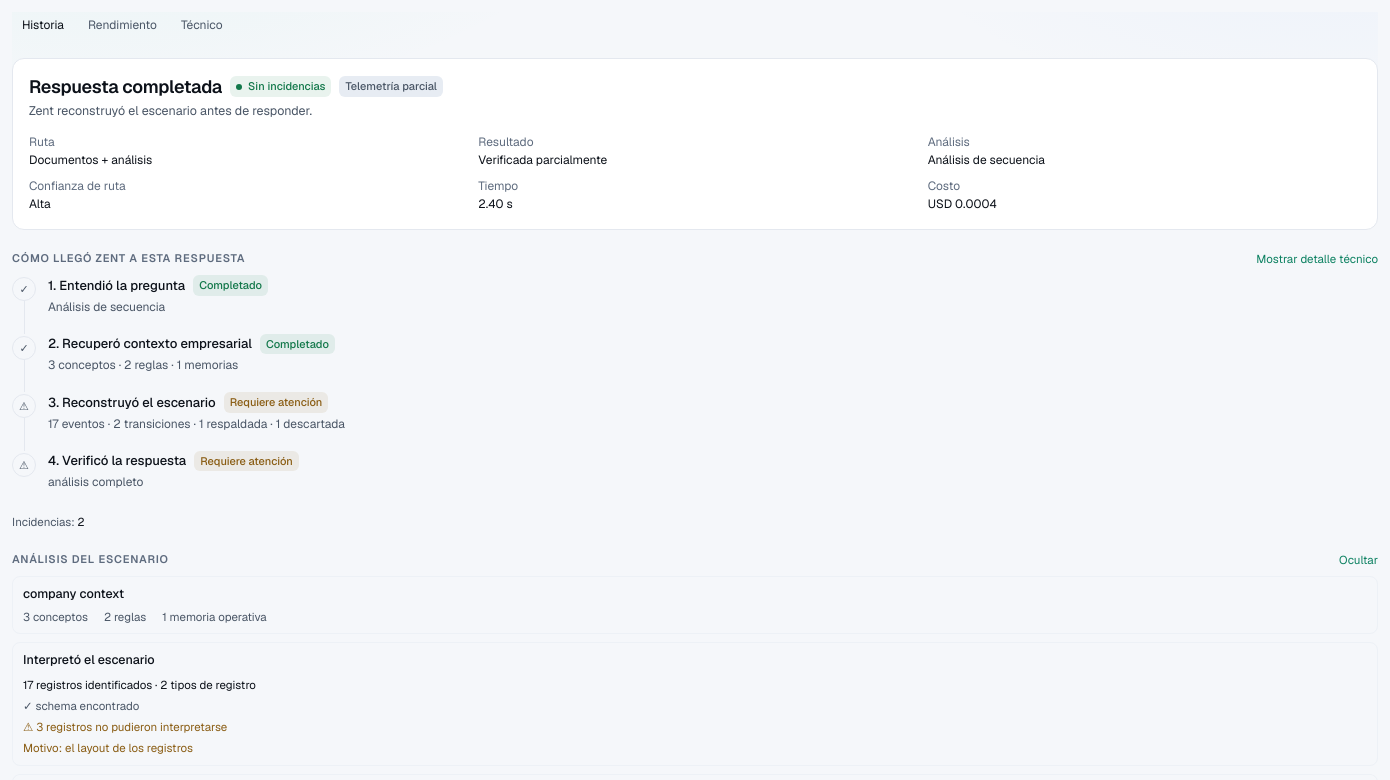
Test: tres vistas (§37-§39, §62) › §43: la vista de rendimiento explica el tiempo real de pared
Click the tab "Rendimiento". click: point(122, 25)
box: 78,12 -> 167,38
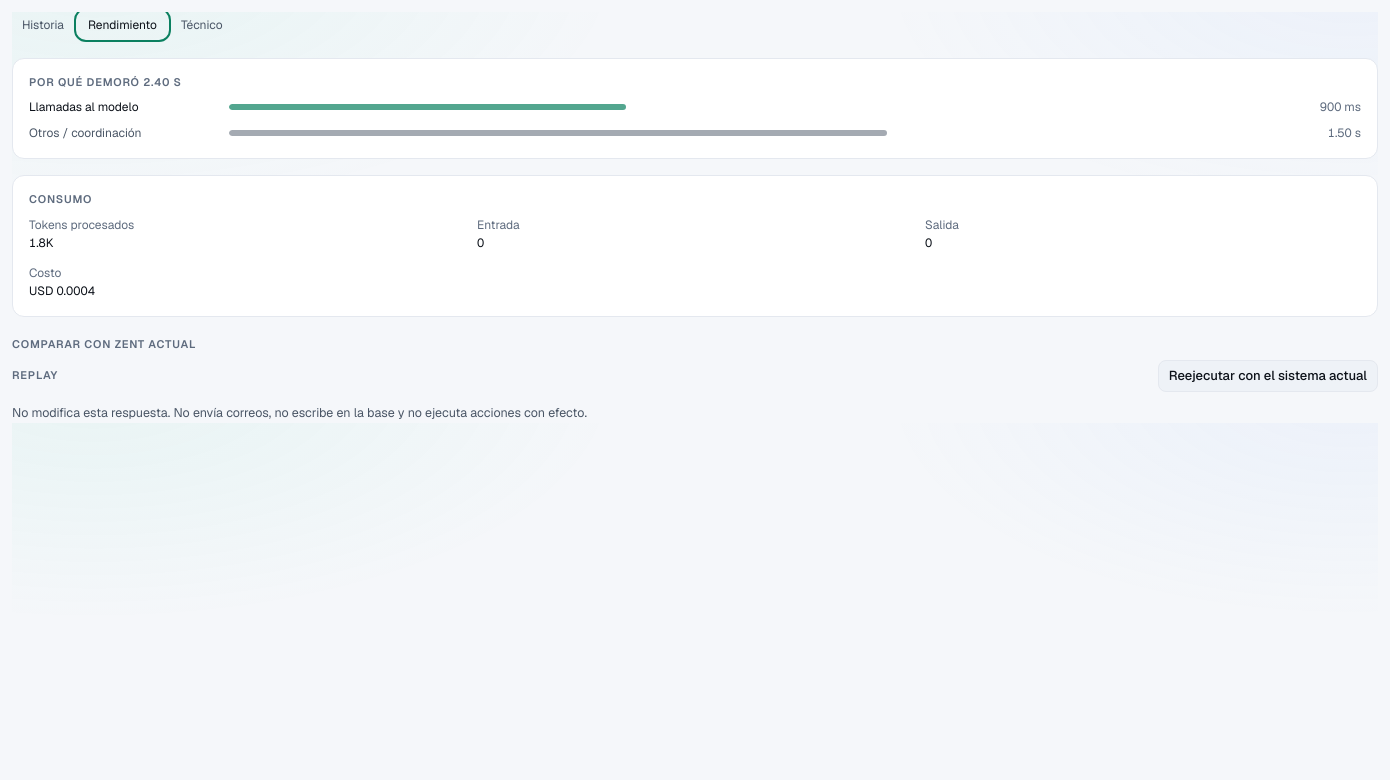
Now the text "Por qué demoró 2.40 s" is shown, box 29,75 -> 182,89
Now the text "Llamadas al modelo" is shown, box 29,99 -> 138,115
